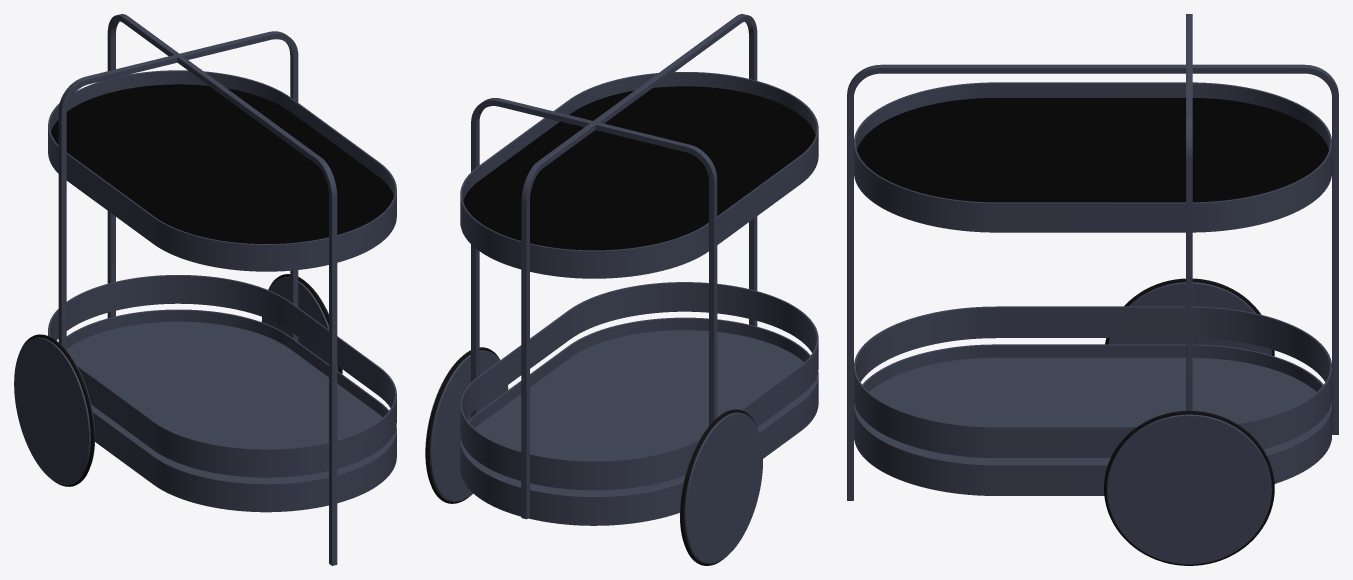
Rendered from Schonbuch_Grace_Trolley_mat(1).fbx.
3 renders of one model, left to right at view 1: azimuth 30°, elevation 25°; view 2: azimuth 150°, elevation 25°; view 3: azimuth 270°, elevation 25°, orthographic. The views are drawn at different scales.
Parts seen in each view (by area): view 1: Schonbuch_Grace_Trolley_mat1; view 2: Schonbuch_Grace_Trolley_mat1; view 3: Schonbuch_Grace_Trolley_mat1.
Boxes of the visible parts, bbox=[...] form: Schonbuch_Grace_Trolley_mat1: bbox=[14, 14, 396, 565]; Schonbuch_Grace_Trolley_mat1: bbox=[425, 14, 818, 565]; Schonbuch_Grace_Trolley_mat1: bbox=[847, 14, 1338, 565].
Bounding box in the file's own units: 47 × 72 × 70.
